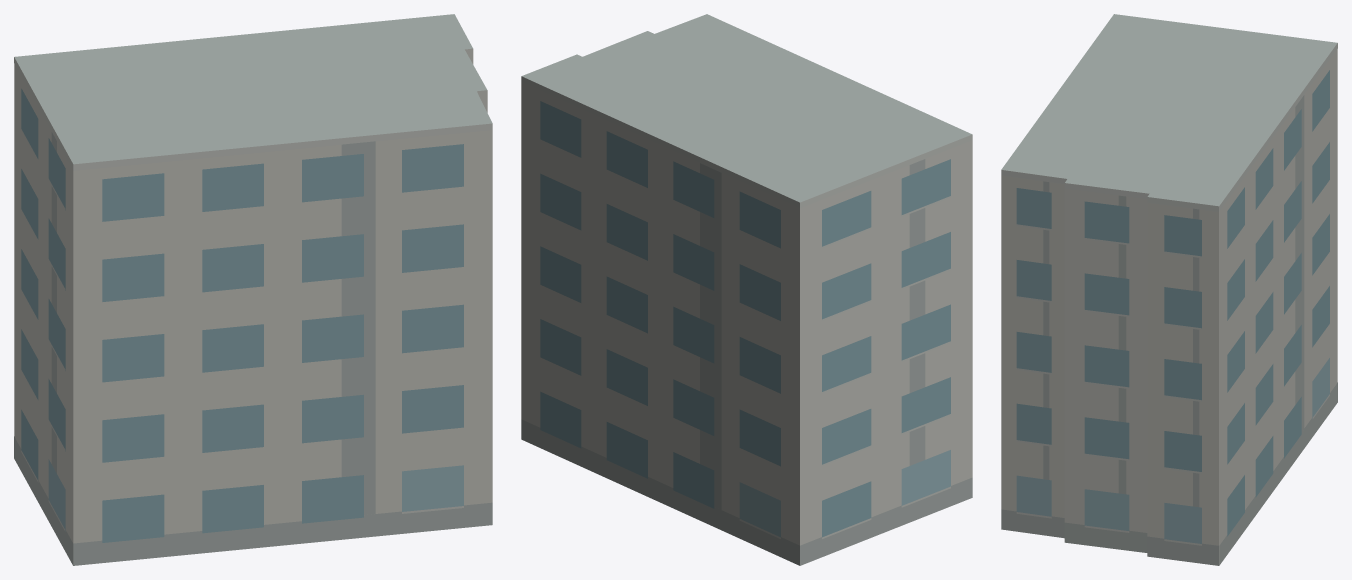
The model's file is survey-upis-32887079.glb.
3 renders of one model, left to right at view 1: azimuth 30°, elevation 25°; view 2: azimuth 150°, elevation 25°; view 3: azimuth 270°, elevation 25°, orthographic. The views are drawn at different scales.
Visible parts, largest first — view 1: survey-upis-32887079.tmp; view 2: survey-upis-32887079.tmp; view 3: survey-upis-32887079.tmp.
Boxes of the visible parts, x1,y1,x2,y2 form: survey-upis-32887079.tmp: (14,14,492,565); survey-upis-32887079.tmp: (521,14,972,565); survey-upis-32887079.tmp: (1001,14,1337,565).
Size of the model in its own units: 17.5 by 15.25 by 12.95.
